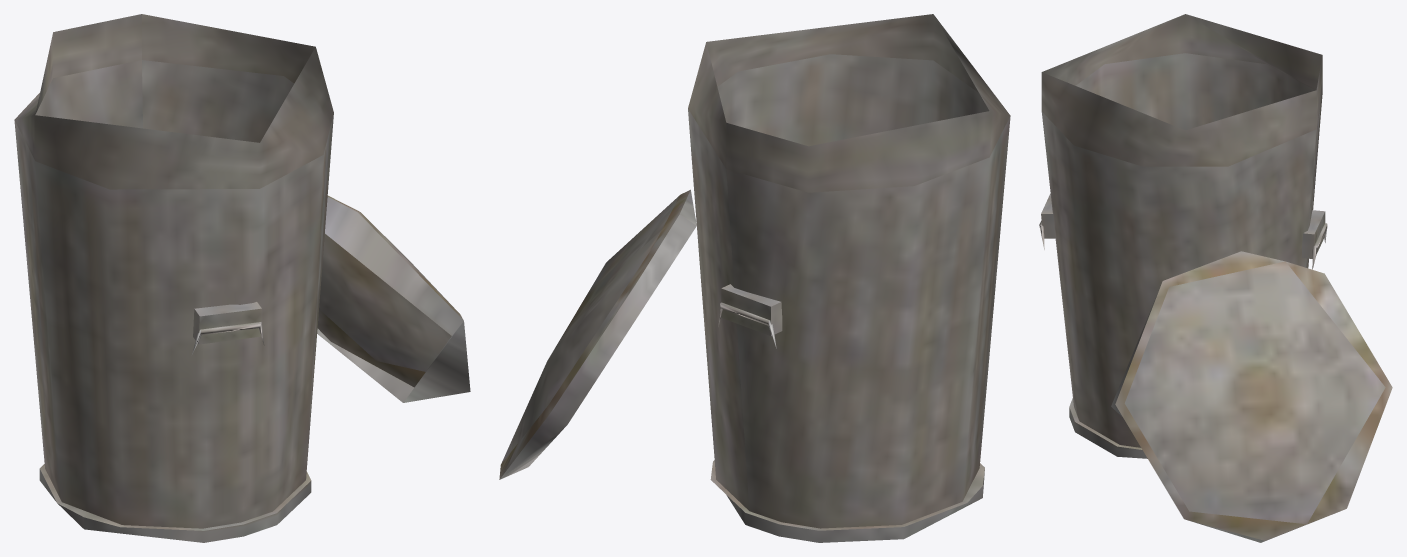
The model's file is trash-can.lod1.glb.
3 renders of one model, left to right at view 1: azimuth 30°, elevation 25°; view 2: azimuth 150°, elevation 25°; view 3: azimuth 270°, elevation 25°, orthographic. The views are drawn at different scales.
Visible parts, largest first — view 1: Object_2; view 2: Object_2; view 3: Object_2.
Boxes of the visible parts, x1,y1,x2,y2 form: Object_2: (14,14,470,542); Object_2: (499,14,1010,542); Object_2: (1039,14,1392,542).
Size of the model in its own units: 1.08 by 1 by 0.8949.
1 material, 1 textured.
